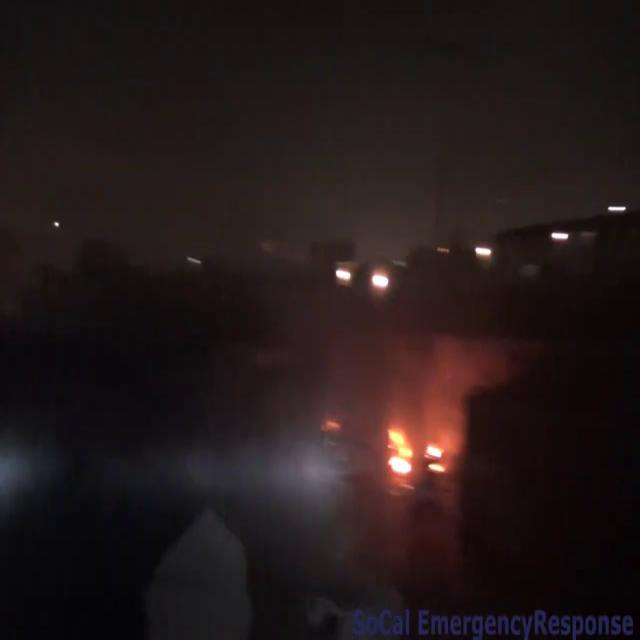Fire: (382, 412, 448, 482)
